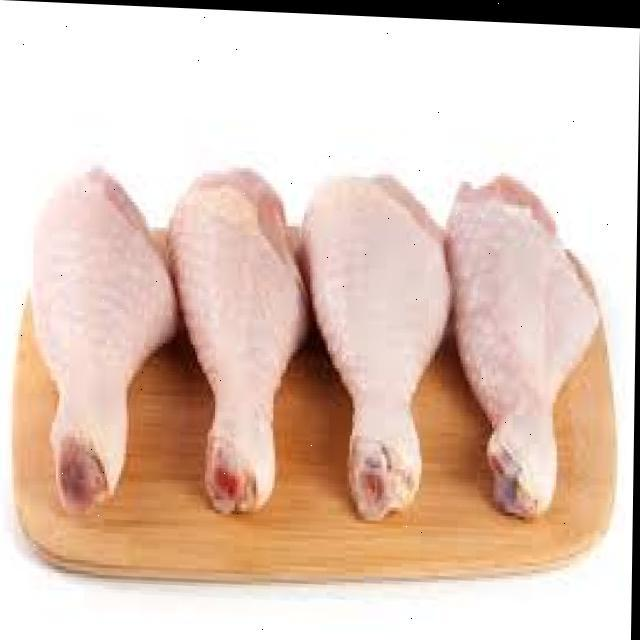leg: (298, 158, 452, 512), (162, 160, 311, 522), (444, 174, 598, 514), (35, 166, 185, 503)
